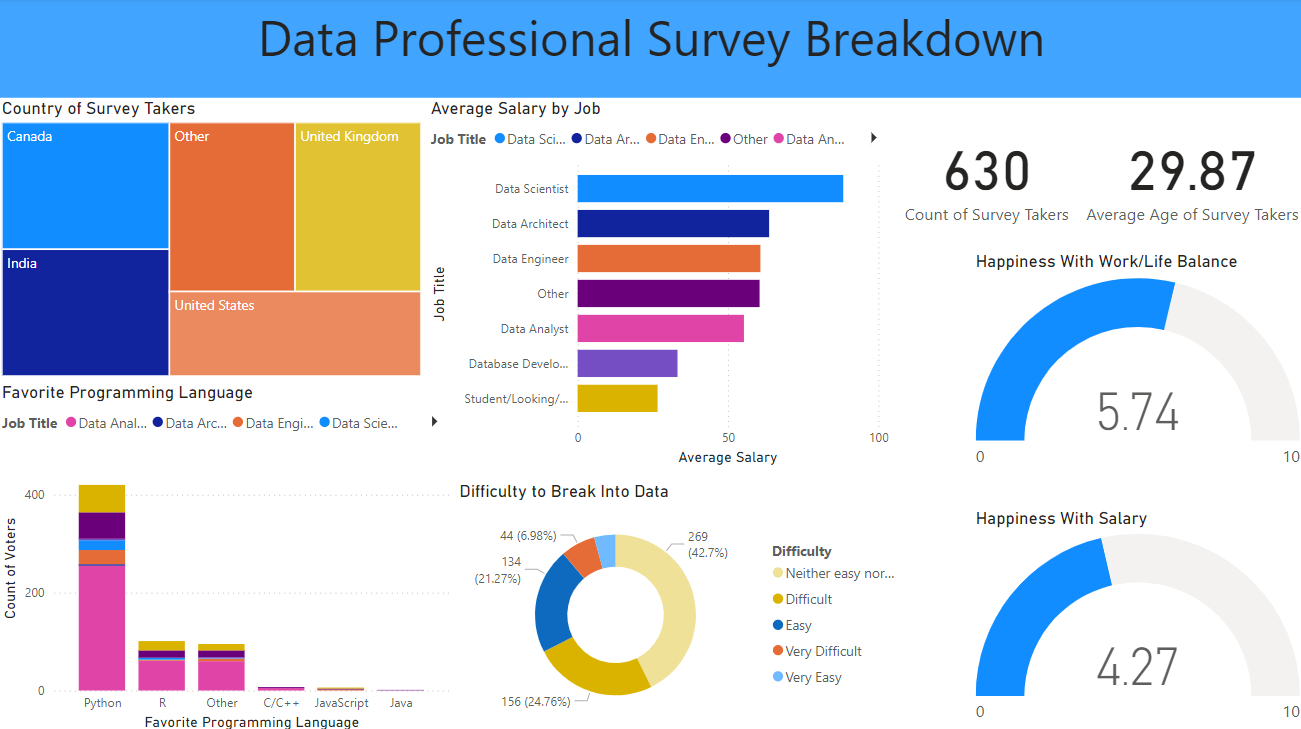

The dashboard page shown, as its layout file describes it:
{"tool":"powerbi","page":{"name":"Page 1","canvas":[1280,720],"ordinal":0},"visuals":[{"type":"textbox","box":[0,0,1280.3,97.8],"z":0},{"type":"card","fields":{"Values":["Count(Data Professional Survey.Unique ID)"]},"box":[877.7,97.7,180.8,150.5],"z":1000},{"type":"card","fields":{"Values":["Avg(Data Professional Survey.Q10 - Current Age)"]},"box":[1059,97.3,221.2,150.4],"z":2000},{"type":"barChart","title":"Average Salary by Job","fields":{"Y":["Avg(Data Professional Survey.Average Salary)"],"Category":["Data Professional Survey.Q1 - Which Title Best Fits your Current Role?.1"],"Series":["Data Professional Survey.Q1 - Which Title Best Fits your Current Role?.1"]},"box":[419.7,97.7,458,364.3],"z":3000},{"type":"columnChart","title":"Favorite Programming Language","fields":{"Category":["Data Professional Survey.Q5 - Favorite Programming Language.1"],"Y":["CountNonNull(Data Professional Survey.Unique ID)"],"Series":["Data Professional Survey.Q1 - Which Title Best Fits your Current Role?.1"]},"box":[0,374.8,447.4,345.8],"z":4000},{"type":"treemap","title":"Country of Survey Takers","fields":{"Group":["Data Professional Survey.Q11 - Which Country do you live in?.1"],"Values":["Count(Data Professional Survey.Q11 - Which Country do you live in?.1)"]},"box":[0,97.7,419.7,277.2],"z":5000},{"type":"gauge","title":"Happiness With Work/Life Balance","fields":{"Y":["Avg(Data Professional Survey.Q6 - How Happy are you in your Current Position with the following? (Work/Life Balance))"],"MinValue":["Min(Data Professional Survey.Q6 - How Happy are you in your Current Position with the following? (Work/Life Balance))1"],"MaxValue":["Max(Data Professional Survey.Q6 - How Happy are you in your Current Position with the following? (Work/Life Balance))2"]},"box":[952.9,246.8,327.3,225.7],"z":6000},{"type":"gauge","title":"Happiness With  Salary","fields":{"Y":["Avg(Data Professional Survey.Q6 - How Happy are you in your Current Position with the following? (Salary))"],"MinValue":["Min(Data Professional Survey.Q6 - How Happy are you in your Current Position with the following? (Salary))1"],"MaxValue":["Max(Data Professional Survey.Q6 - How Happy are you in your Current Position with the following? (Salary))2"]},"box":[952.9,498.9,327.3,221.7],"z":7000},{"type":"donutChart","title":"Difficulty to Break Into Data","fields":{"Category":["Data Professional Survey.Q7 - How difficult was it for you to break into Data?"],"Y":["CountNonNull(Data Professional Survey.Q7 - How difficult was it for you to break into Data?)"]},"box":[447.4,472.5,447.4,244.2],"z":8000}]}

Visuals, with their boxes in screenshot pixels (x1, y1, x2, y2), scaled from the page's 1280x720 canvas onto the 1301x729 screenshot:
textbox: pyautogui.locateOnScreen(0, 0, 1300, 99)
card - Count(Data Professional Survey.Unique ID): pyautogui.locateOnScreen(892, 99, 1076, 251)
card - Avg(Data Professional Survey.Q10 - Current Age): pyautogui.locateOnScreen(1076, 99, 1300, 251)
"Average Salary by Job" barChart: pyautogui.locateOnScreen(427, 99, 892, 468)
"Favorite Programming Language" columnChart: pyautogui.locateOnScreen(0, 379, 455, 728)
"Country of Survey Takers" treemap: pyautogui.locateOnScreen(0, 99, 427, 380)
"Happiness With Work/Life Balance" gauge: pyautogui.locateOnScreen(969, 250, 1300, 478)
"Happiness With  Salary" gauge: pyautogui.locateOnScreen(969, 505, 1300, 728)
"Difficulty to Break Into Data" donutChart: pyautogui.locateOnScreen(455, 478, 909, 726)
